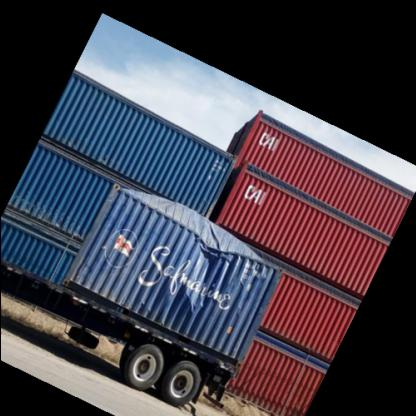Damage: (106, 195, 258, 322)
